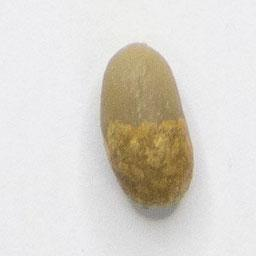longberry: (95, 38, 197, 210)
